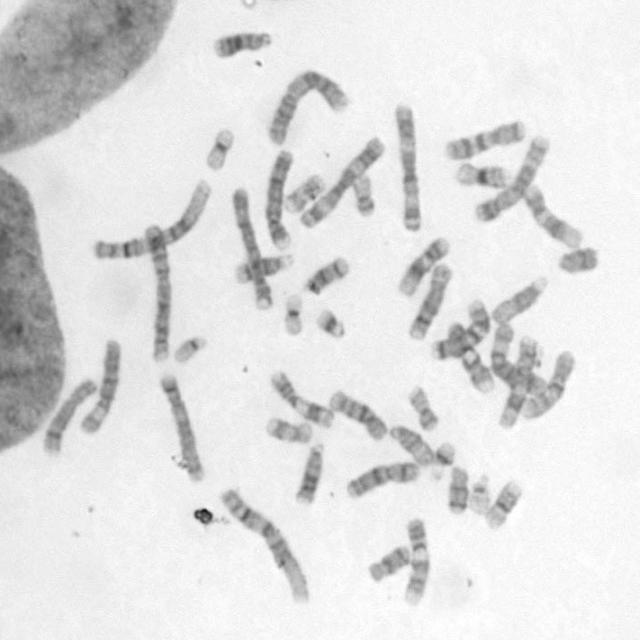A1: (215, 488, 314, 606), (92, 175, 213, 261)
A2: (263, 66, 353, 151), (142, 222, 174, 363)
A3: (298, 133, 387, 229), (392, 97, 424, 233)
B4: (228, 187, 277, 312), (263, 147, 295, 251)
B5: (473, 134, 550, 224), (155, 370, 205, 481)
C10: (519, 348, 576, 421), (326, 388, 391, 443)
C11: (497, 334, 540, 432), (271, 368, 336, 431)
C12: (522, 181, 584, 249), (397, 236, 451, 297)
C6: (490, 321, 550, 399), (78, 334, 124, 435)
C7: (441, 118, 528, 162), (431, 300, 491, 363)
C8: (42, 377, 96, 456), (408, 262, 456, 342)
C9: (444, 319, 498, 397), (402, 516, 431, 609)
D13: (293, 441, 325, 507), (212, 26, 274, 60)
D14: (234, 252, 295, 287), (306, 254, 350, 297)
D15: (490, 275, 549, 325), (385, 421, 435, 469)
E16: (483, 480, 522, 532), (454, 159, 511, 190)
E17: (282, 171, 330, 217), (264, 414, 314, 447)
E18: (364, 544, 411, 584), (446, 464, 469, 513)
F19: (202, 126, 236, 172), (282, 290, 305, 339)
F20: (404, 383, 439, 435), (350, 169, 377, 219)
G21: (428, 440, 459, 482), (315, 306, 350, 341)
G22: (466, 471, 494, 517), (171, 332, 207, 364)
X: (339, 461, 426, 501)
Y: (556, 245, 602, 275)
